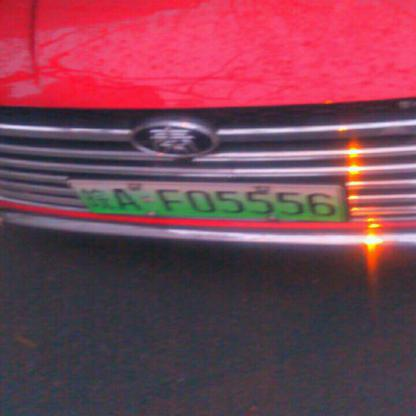lp: (66, 181, 345, 221)
